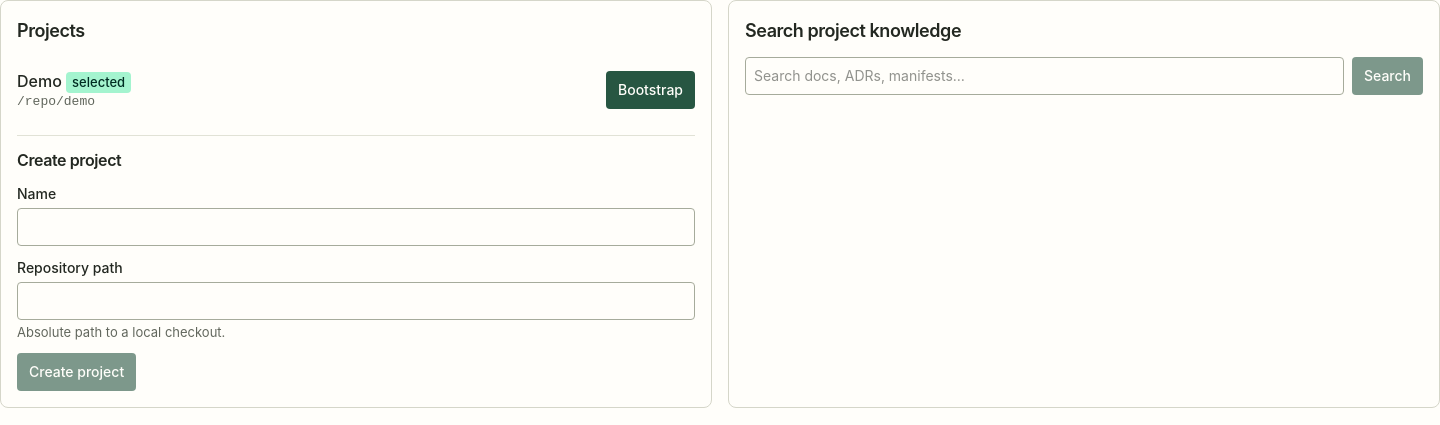
Test: ProjectsScreen › searches the selected project's index
Type "frob" into the search field named "Search the project index" at (1044, 76), box top-left (745, 57), bottom-right (1344, 95)
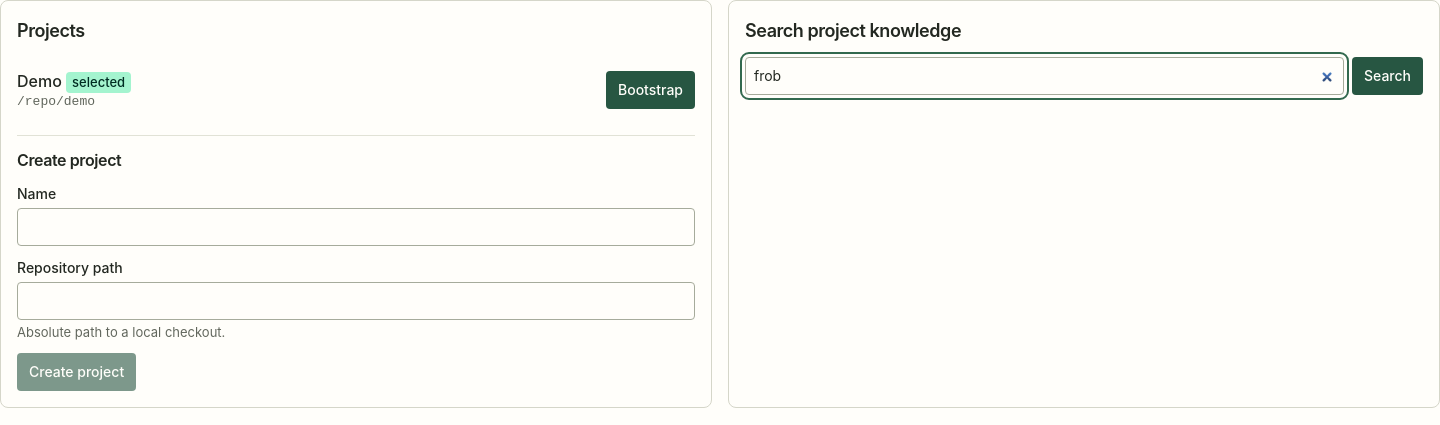
Click the button "Search" at (1388, 76), box top-left (1352, 57), bottom-right (1423, 95)
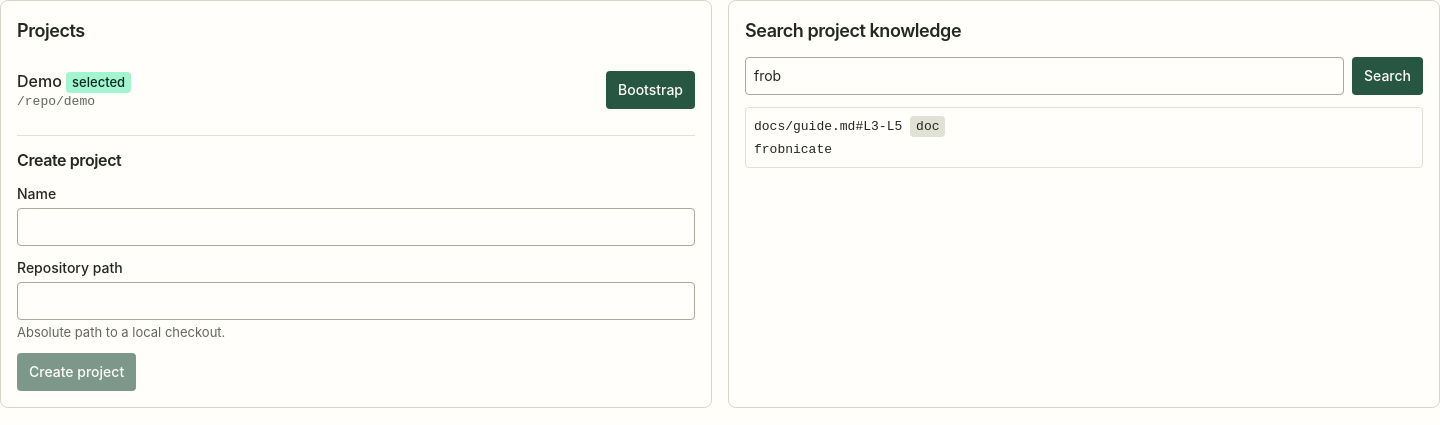
Check: the text "docs/guide.md#L3-L5 doc" is shown, box top-left (754, 116), bottom-right (946, 137)
